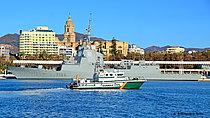MIL_Ship: (6, 14, 202, 81)
